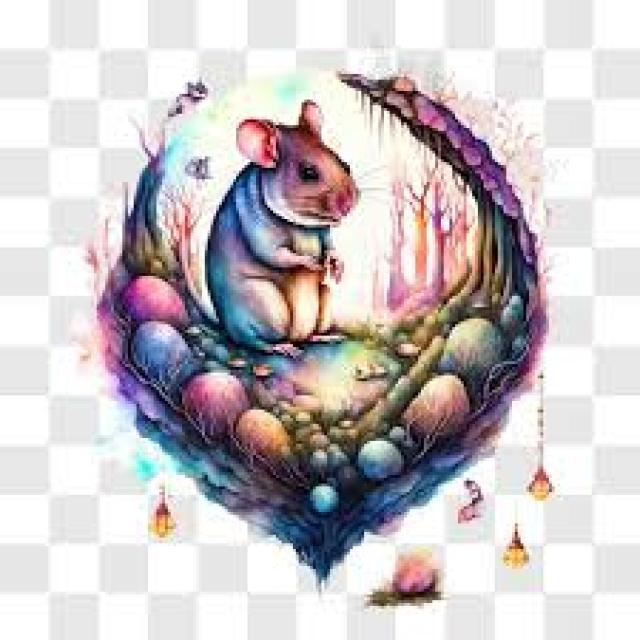rat: (202, 96, 358, 352)
